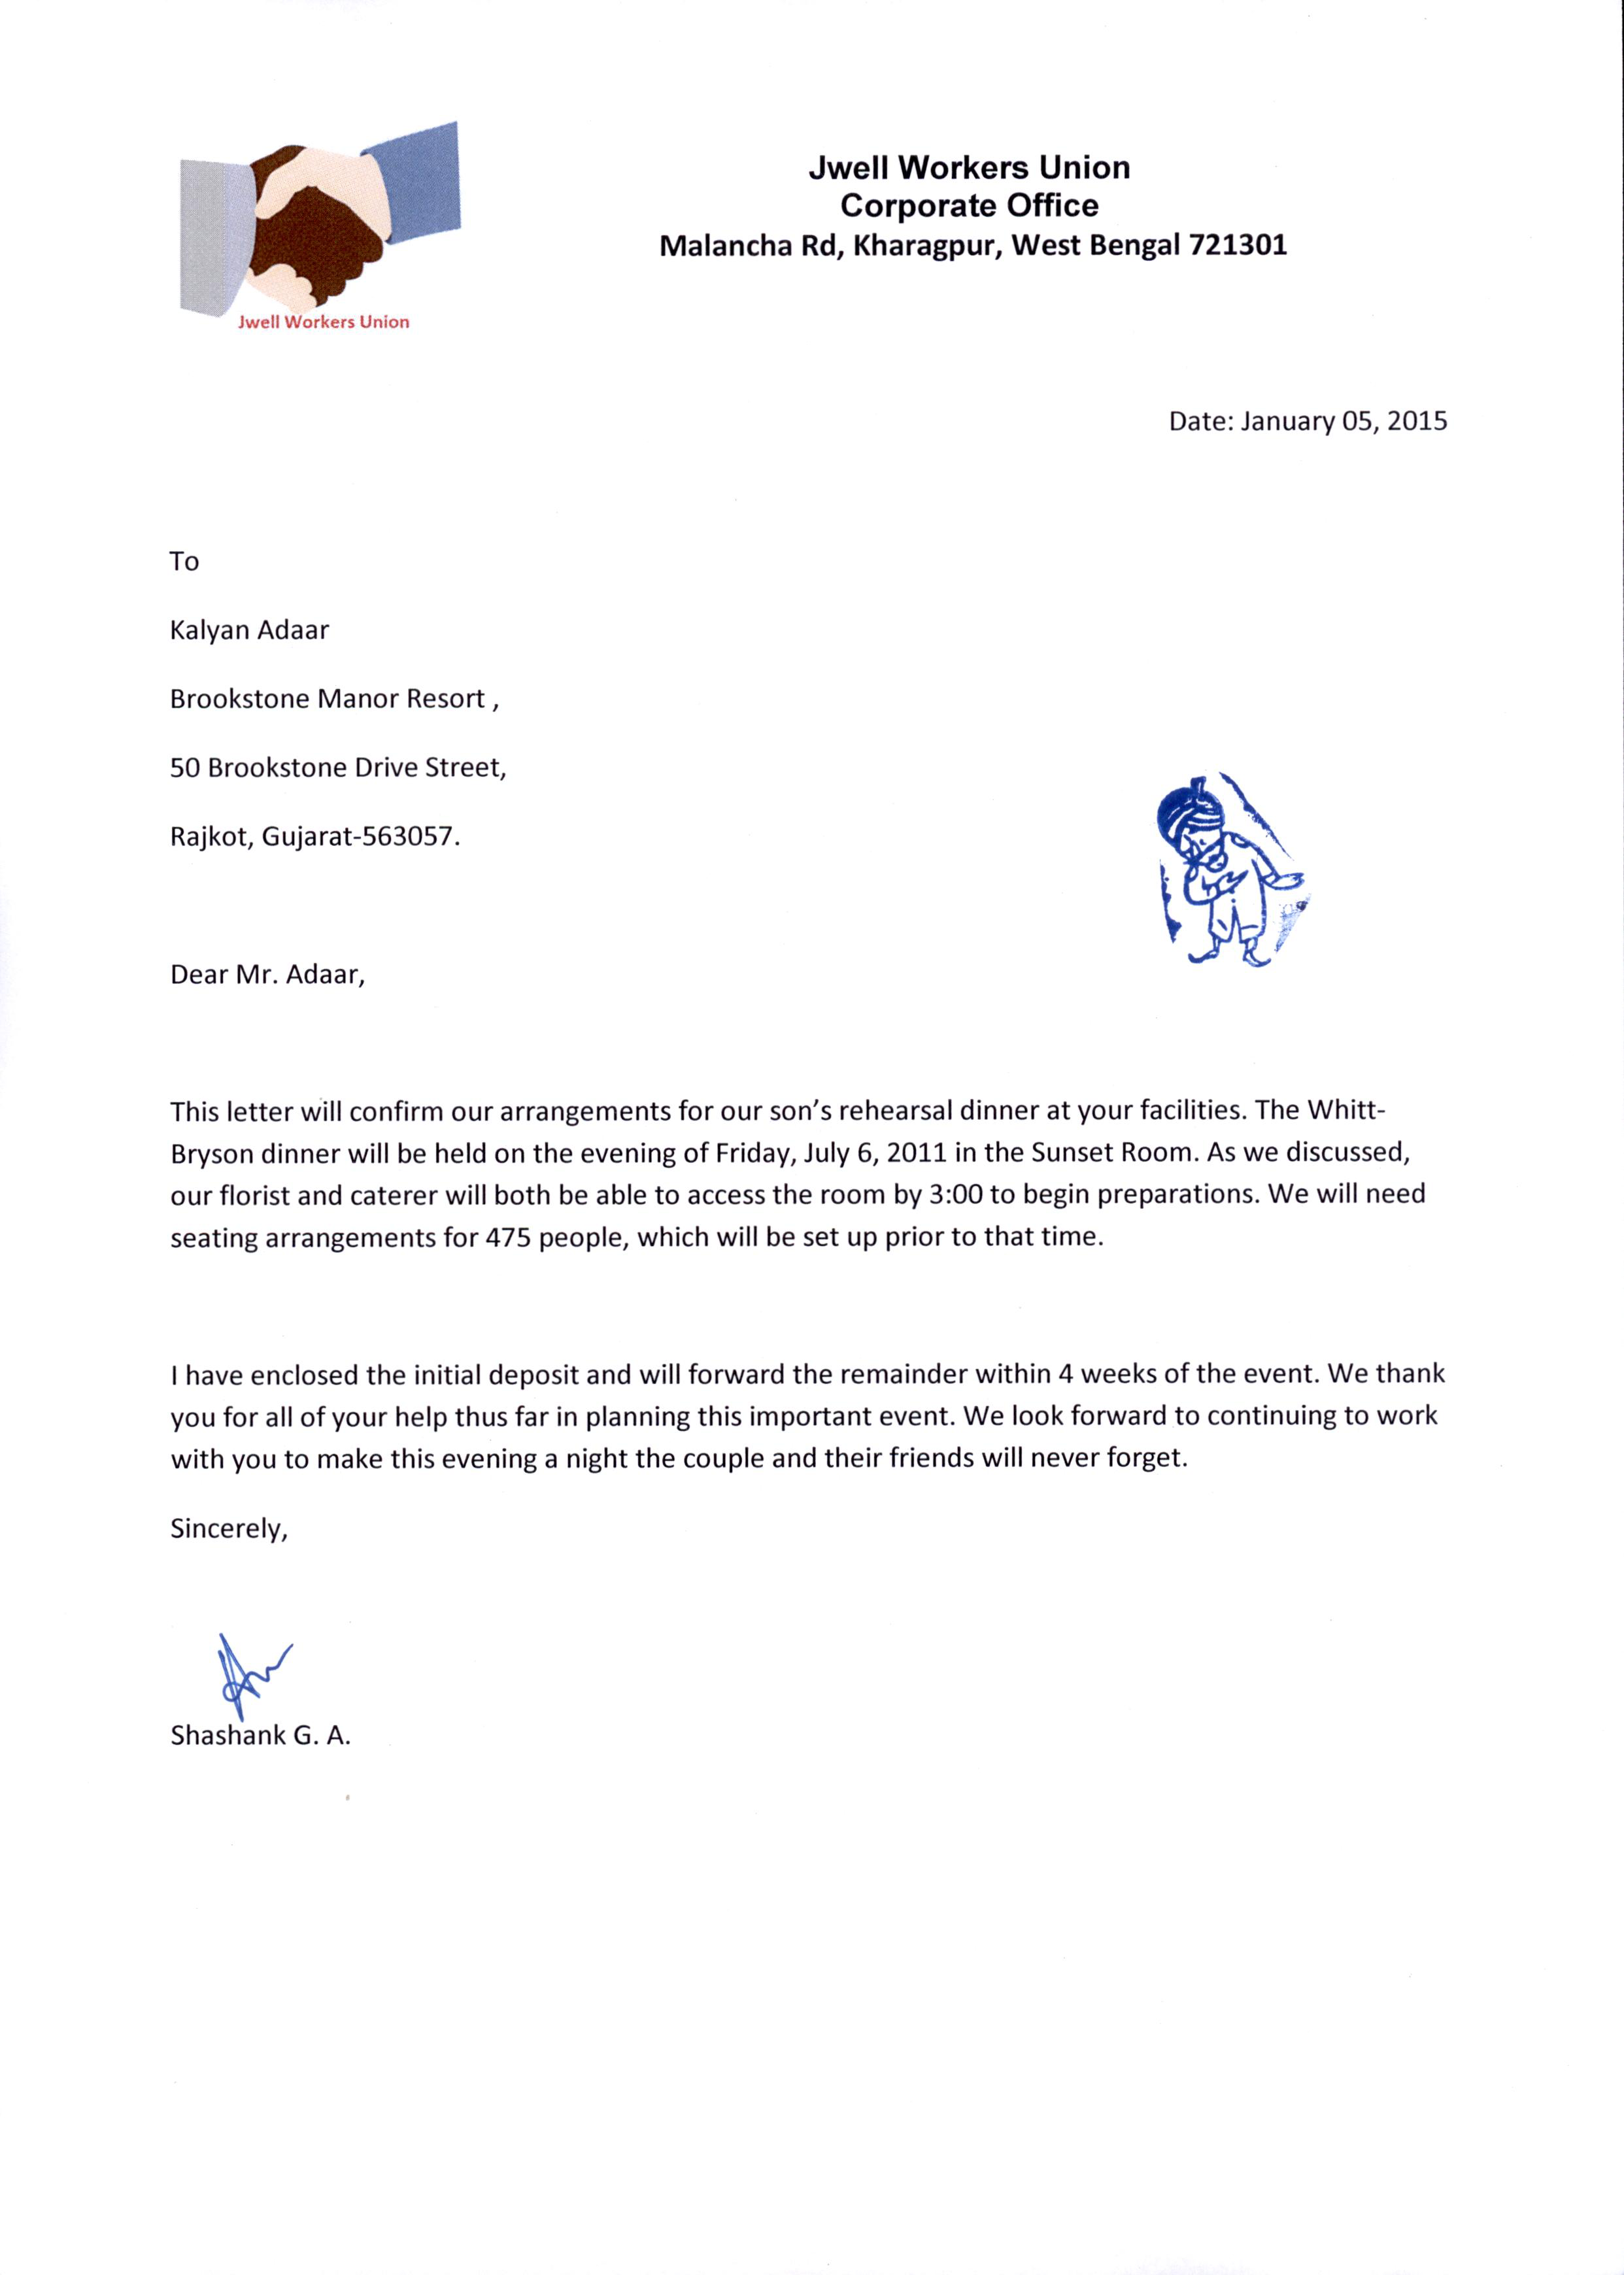Signature: (202, 1618, 308, 1723)
